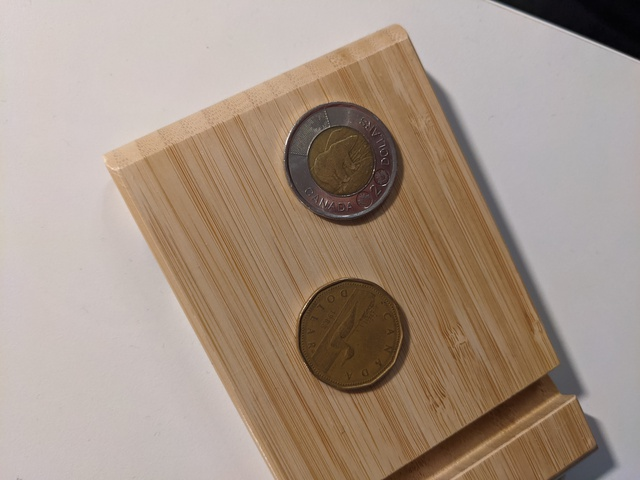loonie: (285, 266, 407, 392)
twonie: (278, 99, 402, 223)
